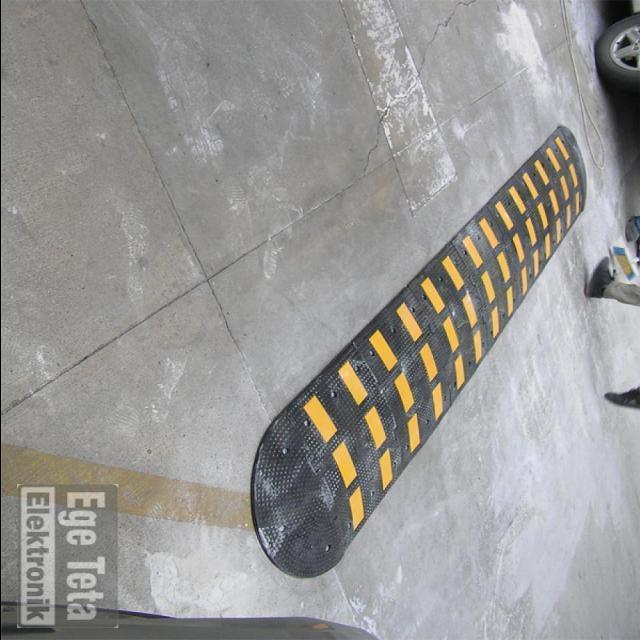speedbreaker: (248, 128, 588, 580)
